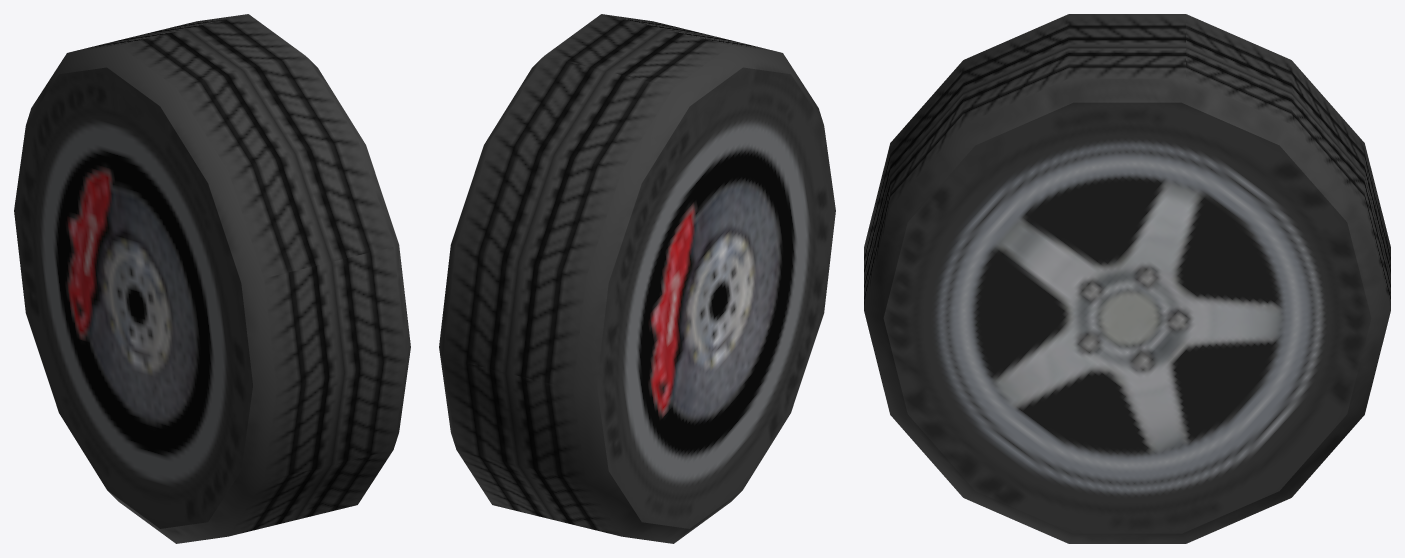
The model's file is WheelModified.FBX.
3 views of the same model, side by side, from view 1: azimuth 30°, elevation 25°; view 2: azimuth 150°, elevation 25°; view 3: azimuth 270°, elevation 25° (orthographic). The views are drawn at different scales.
Visible parts, largest first — view 1: wheelModified001; view 2: wheelModified001; view 3: wheelModified001.
Part boxes in pixels (x1,y1,x2,y2): wheelModified001: (14,14,410,543); wheelModified001: (439,14,835,543); wheelModified001: (864,14,1390,543).
Bounding box in the file's own units: 25.06 × 71.01 × 69.23.
